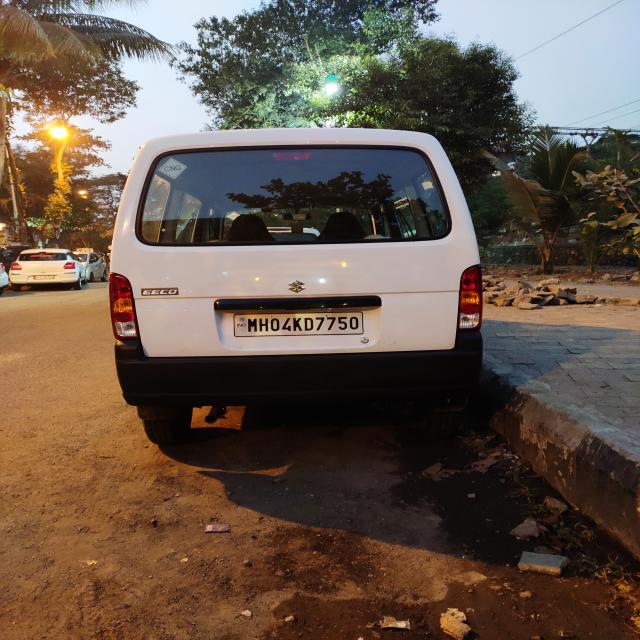Number-Plate: (239, 311, 364, 333)
